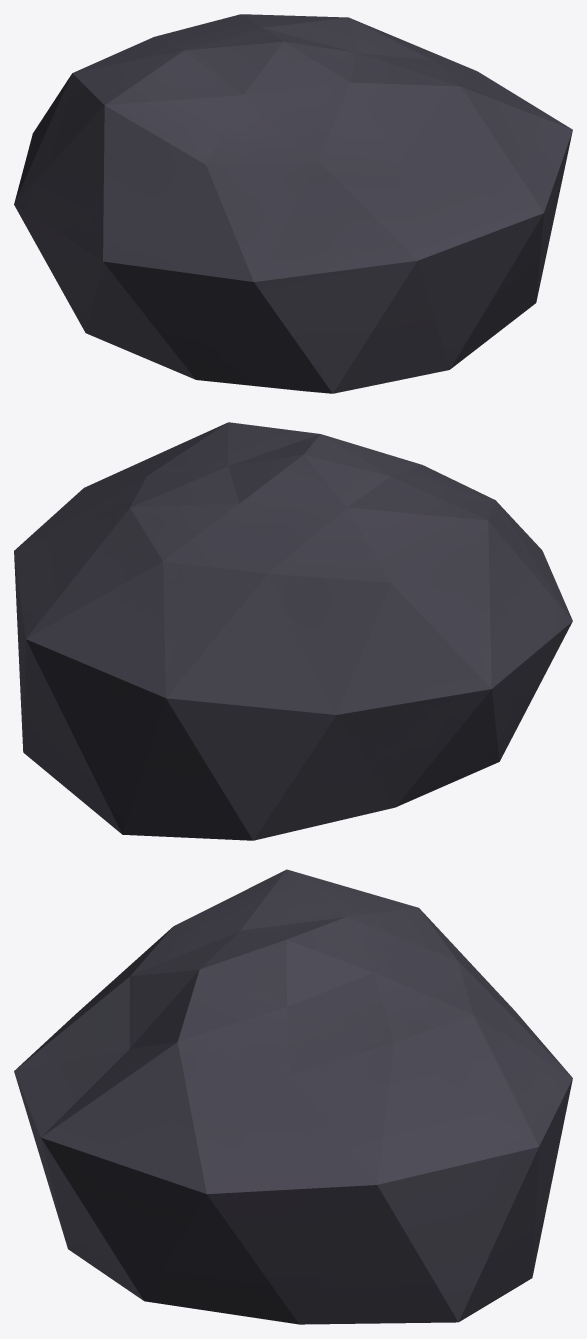
The model's file is Rock2.fbx.
3 renders of one model, top to bottom at view 1: azimuth 30°, elevation 25°; view 2: azimuth 150°, elevation 25°; view 3: azimuth 270°, elevation 25°, orthographic. The views are drawn at different scales.
Parts seen in each view (by area): view 1: Rock2; view 2: Rock2; view 3: Rock2.
Part boxes in pixels (x1,y1,x2,y2): Rock2: [14, 14, 572, 393]; Rock2: [14, 422, 572, 840]; Rock2: [14, 869, 572, 1324].
Size of the model in its own units: 289 by 182 by 281.
